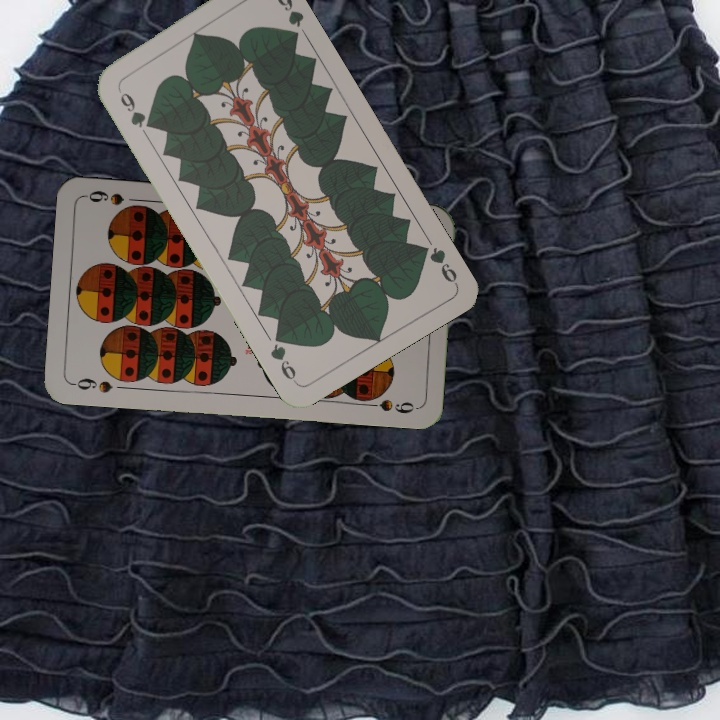G9: (414, 241, 460, 287), (113, 83, 156, 131)
S9: (68, 374, 115, 396)
